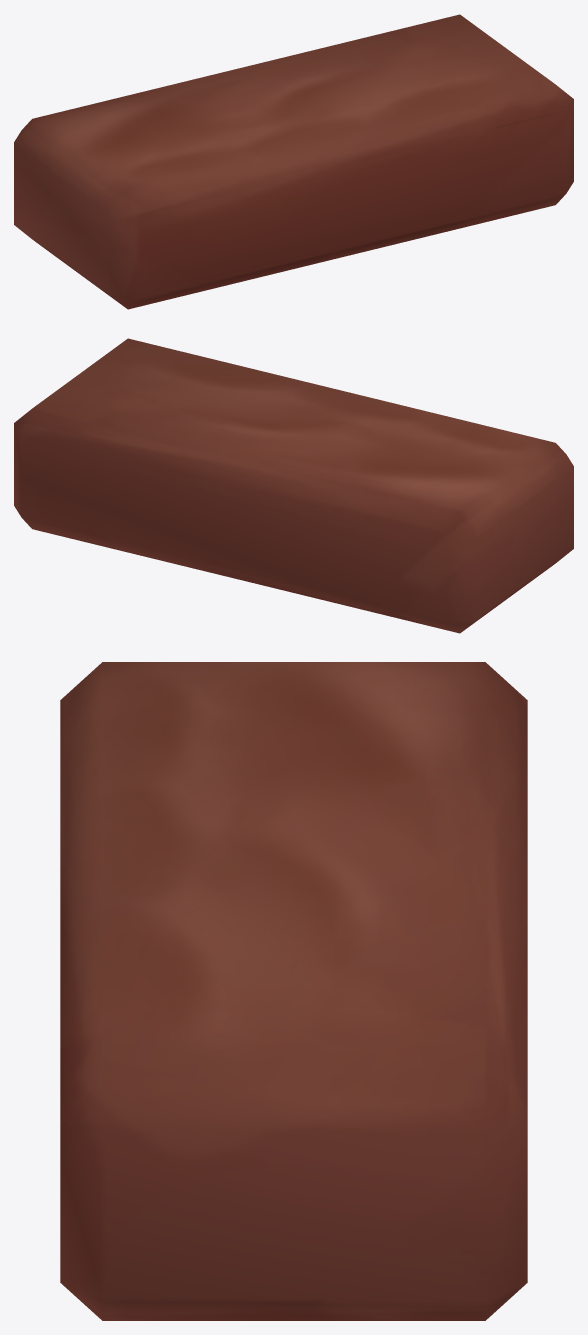
File: ChocoleteBar.glb
3 views of the same model, one above another, from view 1: azimuth 30°, elevation 25°; view 2: azimuth 150°, elevation 25°; view 3: azimuth 270°, elevation 25° (orthographic). The views are drawn at different scales.
Visible parts, largest first — view 1: Object_4.004; view 2: Object_4.004; view 3: Object_4.004.
Boxes of the visible parts, left/top/right/bottom form: Object_4.004: left=14, top=14, right=573, bottom=309; Object_4.004: left=14, top=338, right=573, bottom=633; Object_4.004: left=60, top=662, right=527, bottom=1320.
Size of the model in its own units: 0.1835 by 0.0455 by 0.0799.
1 material, 1 textured.
